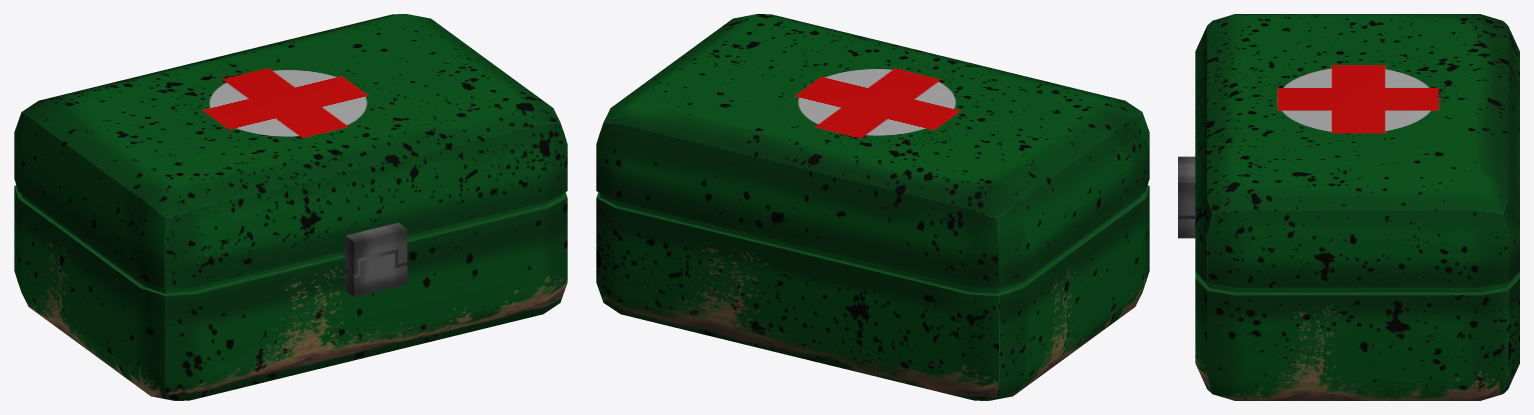
Rendered from medkit.fbx.
3 renders of one model, left to right at view 1: azimuth 30°, elevation 25°; view 2: azimuth 150°, elevation 25°; view 3: azimuth 270°, elevation 25°, orthographic.
Parts seen in each view (by area): view 1: pCube3; view 2: pCube3; view 3: pCube3.
Part boxes in pixels (x1,y1,x2,y2): pCube3: (14,14,567,400); pCube3: (596,14,1149,400); pCube3: (1178,14,1519,400).
Bounding box in the file's own units: 1.79 × 0.855 × 1.25.
Materials: 1 (1 with a texture image).
